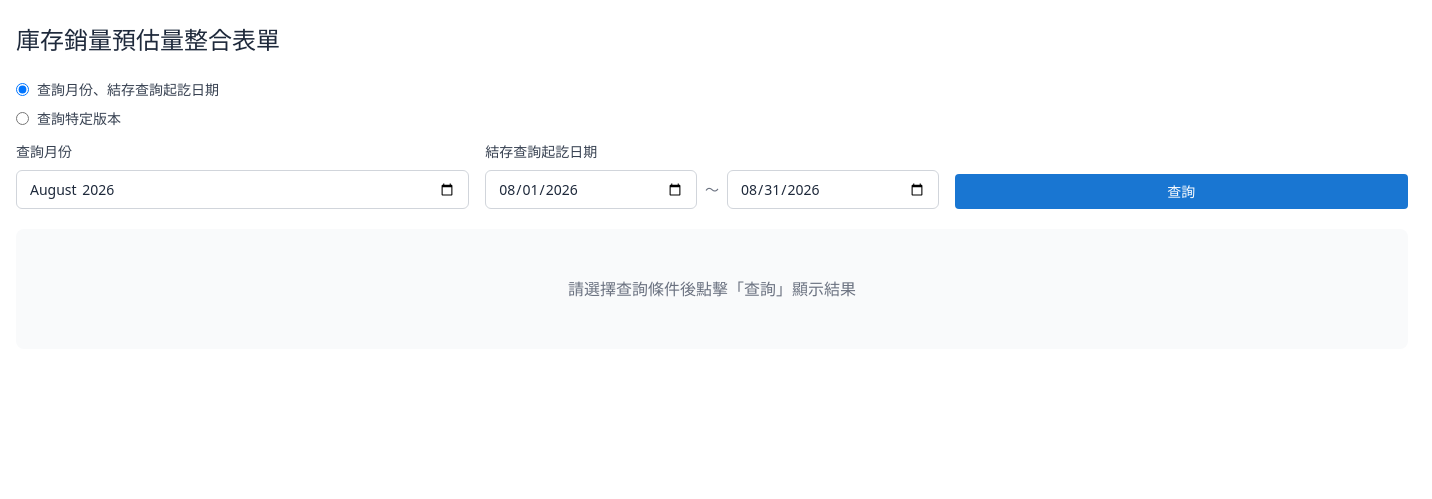
InventoryIntegrationPage › should display data table after successful query
Click the button "查詢".
click(1181, 191)  # box [955,174,1408,209]
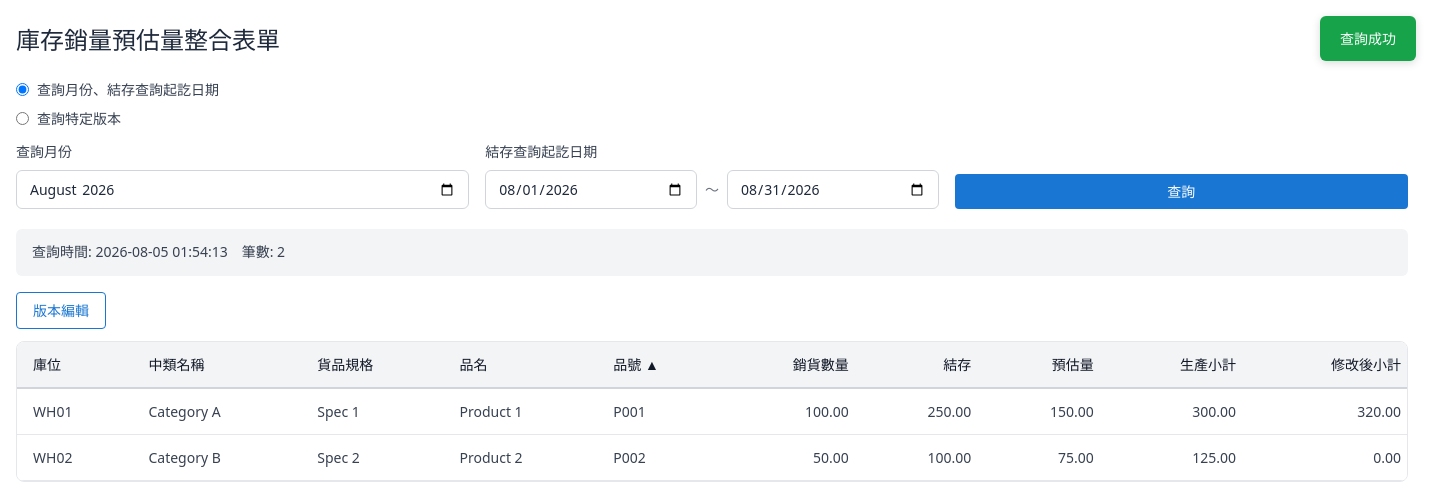
Expected: the table is shown, [17,342,1408,481]
Expected: the text "P001" is shown, [597,388,723,435]
Expected: the text "Product 1" is shown, [444,388,597,435]
